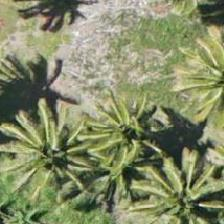coconut_tree: (2, 108, 92, 198), (86, 89, 176, 179), (135, 153, 223, 223)
